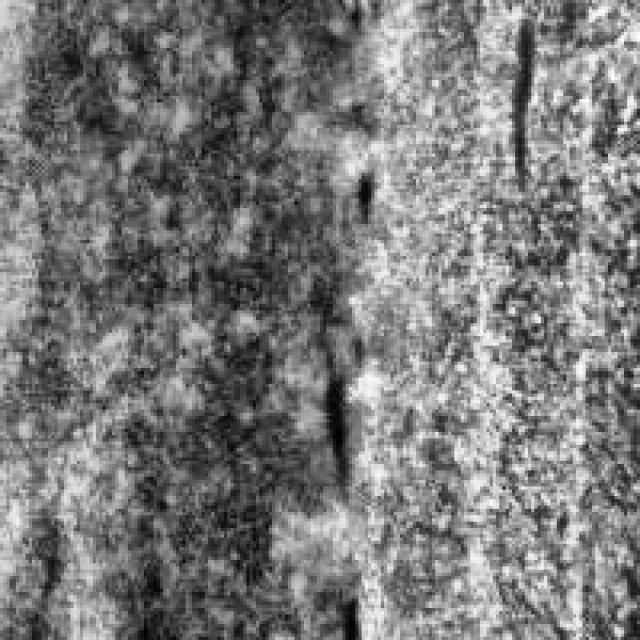Patches: (292, 346, 374, 512), (490, 16, 544, 208)
